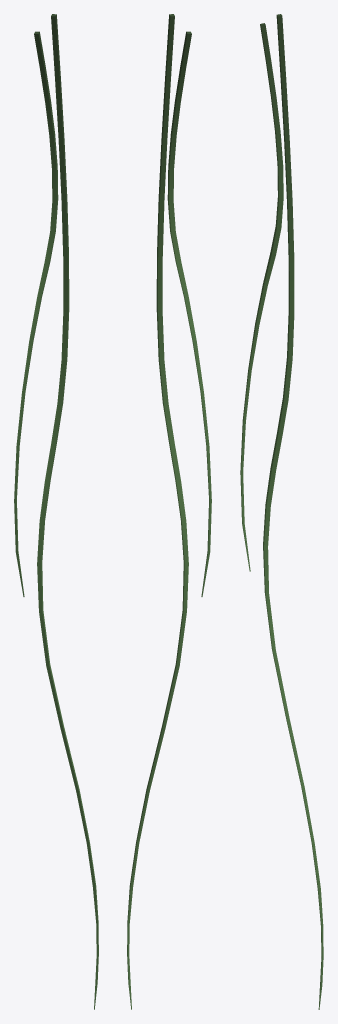
Rendered from Jungle_Vines_Sml_C.fbx.
3 views of the same model, side by side, from view 1: azimuth 30°, elevation 25°; view 2: azimuth 150°, elevation 25°; view 3: azimuth 330°, elevation 25° (orthographic).
Parts seen in each view (by area): view 1: Jungle_Vines_Sml_C; view 2: Jungle_Vines_Sml_C; view 3: Jungle_Vines_Sml_C.
Boxes of the visible parts, left/top/right/bottom form: Jungle_Vines_Sml_C: left=14, top=14, right=98, bottom=1009; Jungle_Vines_Sml_C: left=127, top=14, right=211, bottom=1009; Jungle_Vines_Sml_C: left=240, top=14, right=323, bottom=1009.
Bounding box in the file's own units: 0.808 × 9.14 × 0.0562.
